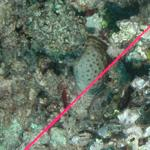alive: (8, 4, 146, 148)
